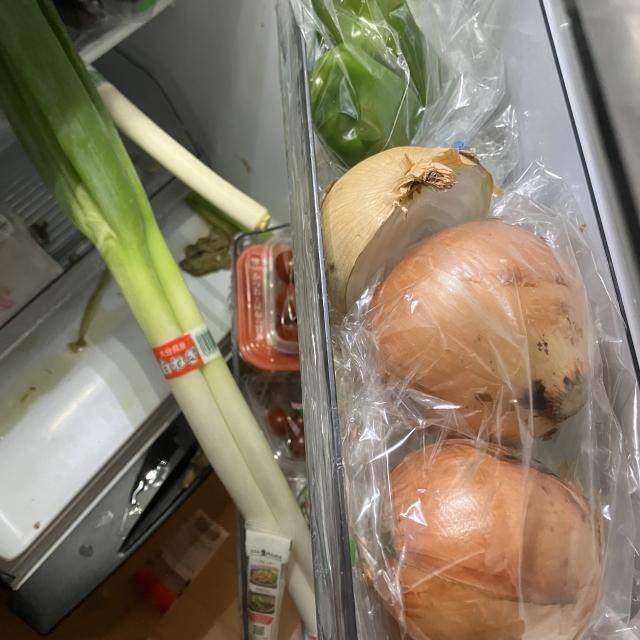onion: (1, 1, 321, 640), (369, 221, 597, 451), (366, 439, 610, 640), (82, 64, 276, 234), (317, 145, 498, 323)
